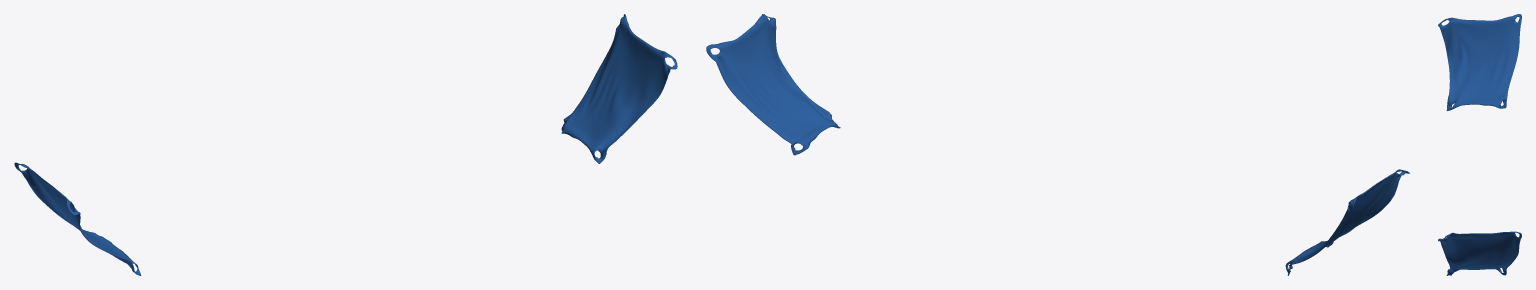
File: tissue01.fbx
3 renders of one model, left to right at view 1: azimuth 30°, elevation 25°; view 2: azimuth 150°, elevation 25°; view 3: azimuth 270°, elevation 25°, orthographic. The views are drawn at different scales.
Visible parts, largest first — view 1: toile.003; view 2: toile.003; view 3: toile.003.
Part boxes in pixels (<box>): toile.003: <box>14,14,677,275</box>; toile.003: <box>706,14,1409,275</box>; toile.003: <box>1438,14,1521,275</box>.
Size of the model in its own units: 4046 by 605 by 654.
